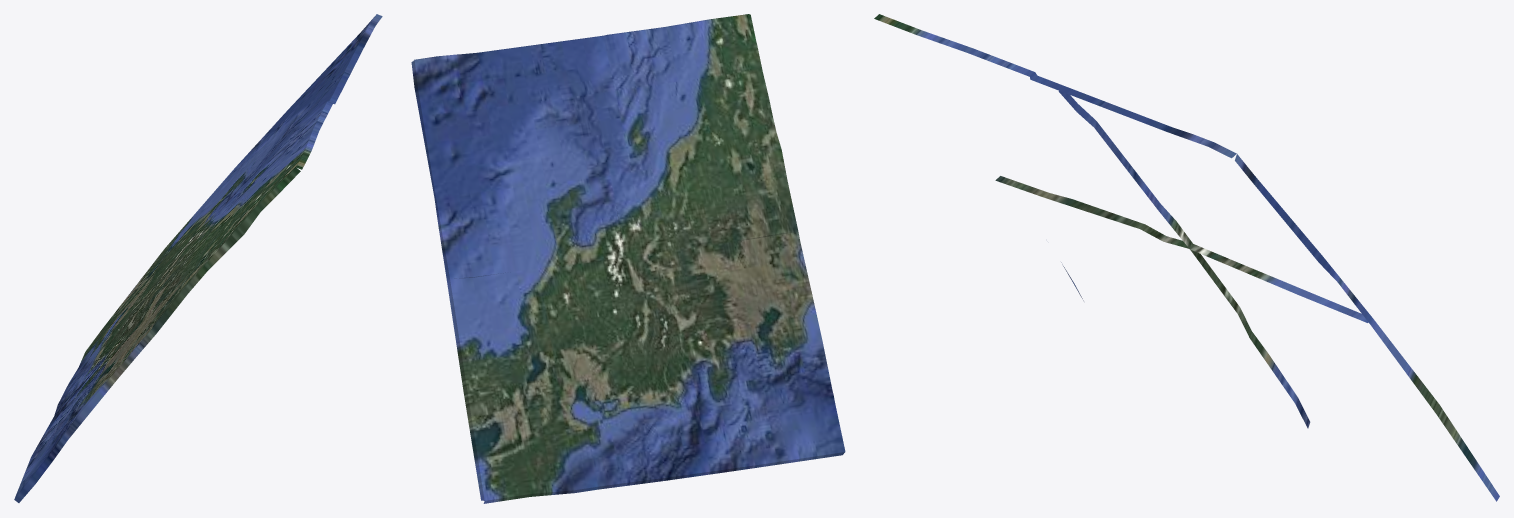
The picture shows the model from 3 angles, left to right: view 1: azimuth 30°, elevation 25°; view 2: azimuth 150°, elevation 25°; view 3: azimuth 270°, elevation 25°; orthographic projection. The views are drawn at different scales.
Size of the model in its own units: 622079 by 511811 by 628675.
Materials: 1 (1 with a texture image).
